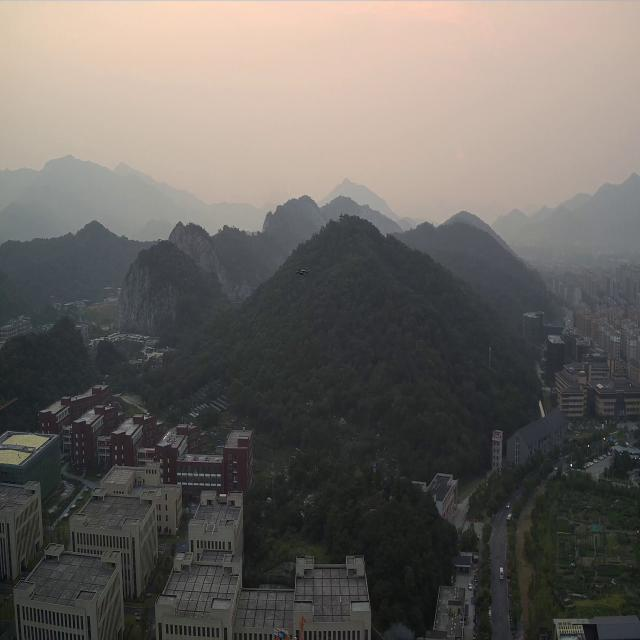UAV: (293, 265, 310, 277)
